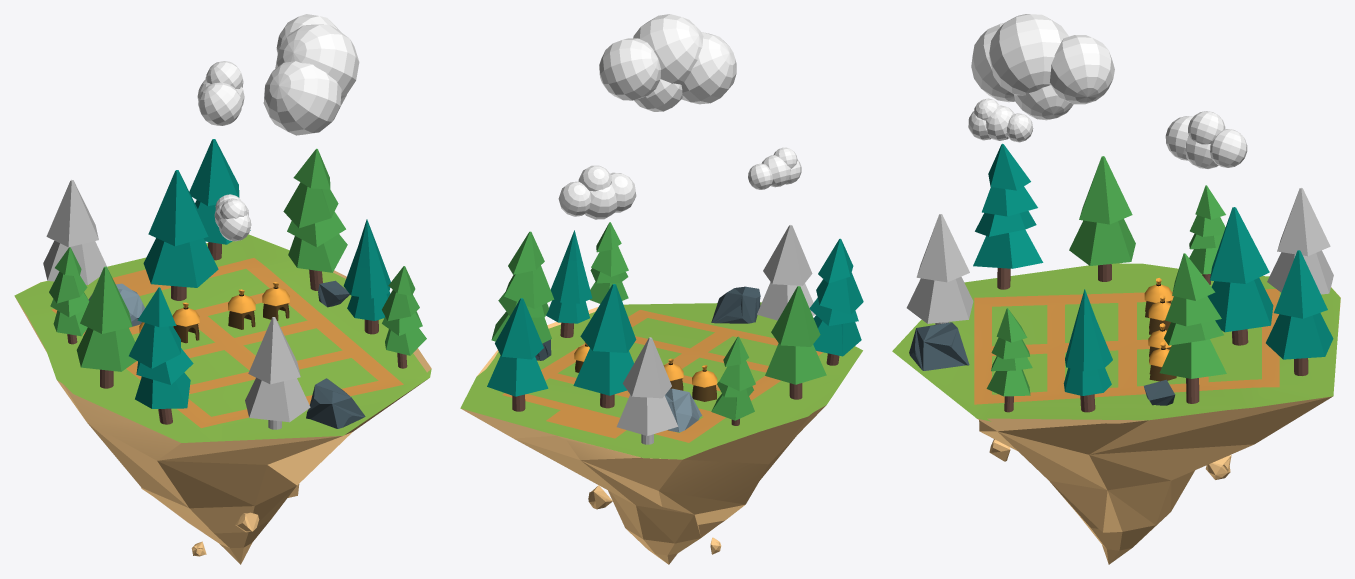
Rendered from floating_island.obj.
3 views of the same model, side by side, from view 1: azimuth 30°, elevation 25°; view 2: azimuth 150°, elevation 25°; view 3: azimuth 270°, elevation 25° (orthographic). The views are drawn at different scales.
Visible parts, largest first — view 1: group1394957196, group744955768, group939159232, group83618611, group1721881196, group1211287408.002, group1211287408, group1211287408.001, group1452820333, group1645289098, group1289338147, group1471613733 (+8 smaller); view 2: group1394957196, group744955768, group939159232, group1721881196, group1211287408, group1645289098, group1211287408.001, group83618611, group1304023297, group1211287408.002, group1452820333, group1471613733 (+5 smaller); view 3: group1394957196, group744955768, group1721881196, group83618611, group939159232, group1645289098, group1211287408, group1211287408.002, group1452820333, group1304023297, group1211287408.001, group1289338147 (+6 smaller).
Part boxes in pixels (<box>): group1394957196: <box>14,234,431,564</box>; group744955768: <box>263,14,359,135</box>; group939159232: <box>143,170,218,300</box>; group83618611: <box>283,148,347,290</box>; group1721881196: <box>129,287,193,424</box>; group1211287408.002: <box>245,317,310,429</box>; group1211287408: <box>76,266,136,388</box>; group1211287408.001: <box>43,179,108,284</box>; group1452820333: <box>343,219,390,334</box>; group1645289098: <box>189,139,250,260</box>; group1289338147: <box>382,266,426,368</box>; group1471613733: <box>49,247,89,344</box>; group1394957196: <box>460,302,862,564</box>; group744955768: <box>599,14,736,111</box>; group939159232: <box>573,284,636,408</box>; group1721881196: <box>809,238,863,365</box>; group1211287408: <box>765,286,826,399</box>; group1645289098: <box>487,298,548,411</box>; group1211287408.001: <box>616,337,678,444</box>; group83618611: <box>491,231,554,343</box>; group1304023297: <box>558,165,636,219</box>; group1211287408.002: <box>757,225,815,320</box>; group1452820333: <box>546,230,592,337</box>; group1471613733: <box>711,336,755,425</box>; group1394957196: <box>892,263,1340,564</box>; group744955768: <box>971,14,1114,120</box>; group1721881196: <box>973,143,1043,289</box>; group83618611: <box>1159,253,1226,403</box>; group939159232: <box>1207,207,1273,345</box>; group1645289098: <box>1266,250,1333,375</box>; group1211287408: <box>1069,156,1135,281</box>; group1211287408.002: <box>906,214,973,324</box>; group1452820333: <box>1063,289,1112,412</box>; group1304023297: <box>1165,111,1247,168</box>; group1211287408.001: <box>1267,188,1333,294</box>; group1289338147: <box>986,308,1032,412</box>.
Size of the model in its own units: 0.4308 by 0.6982 by 0.5014.
